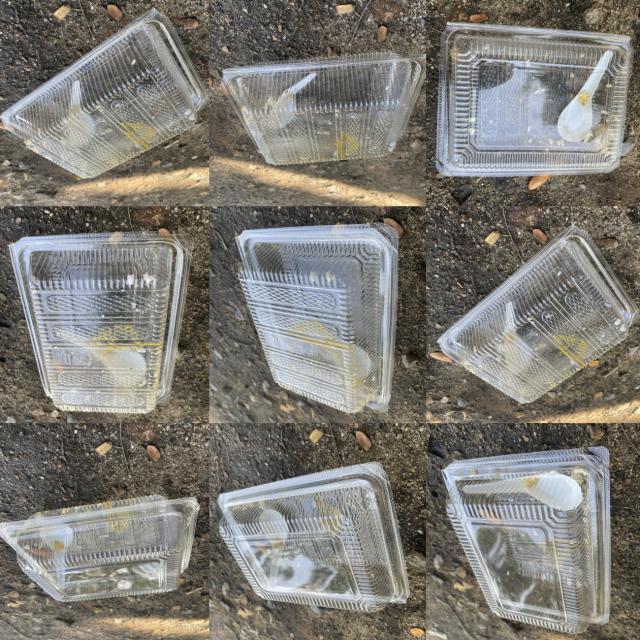plastik: (438, 226, 638, 404), (0, 10, 207, 177), (9, 230, 193, 414), (442, 447, 611, 634), (236, 224, 398, 413), (436, 22, 633, 176), (217, 462, 409, 612), (222, 53, 424, 165), (0, 495, 200, 602), (558, 50, 613, 142), (463, 472, 583, 510)
